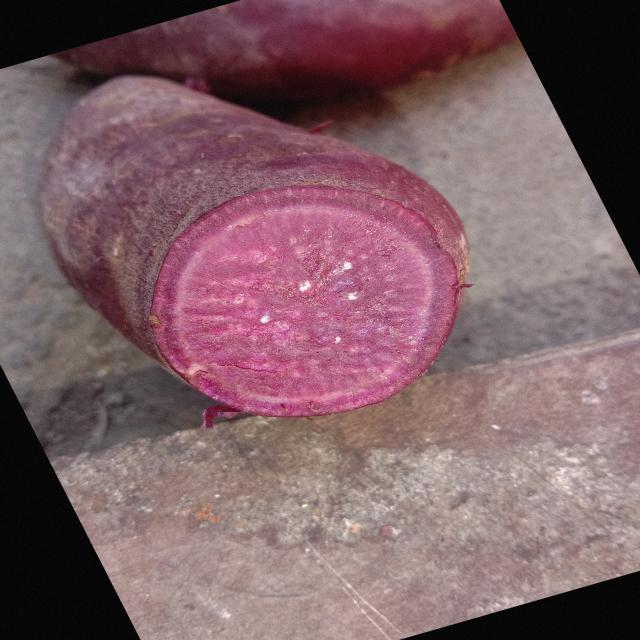Healthy Sweet Potato: (152, 186, 458, 416)
